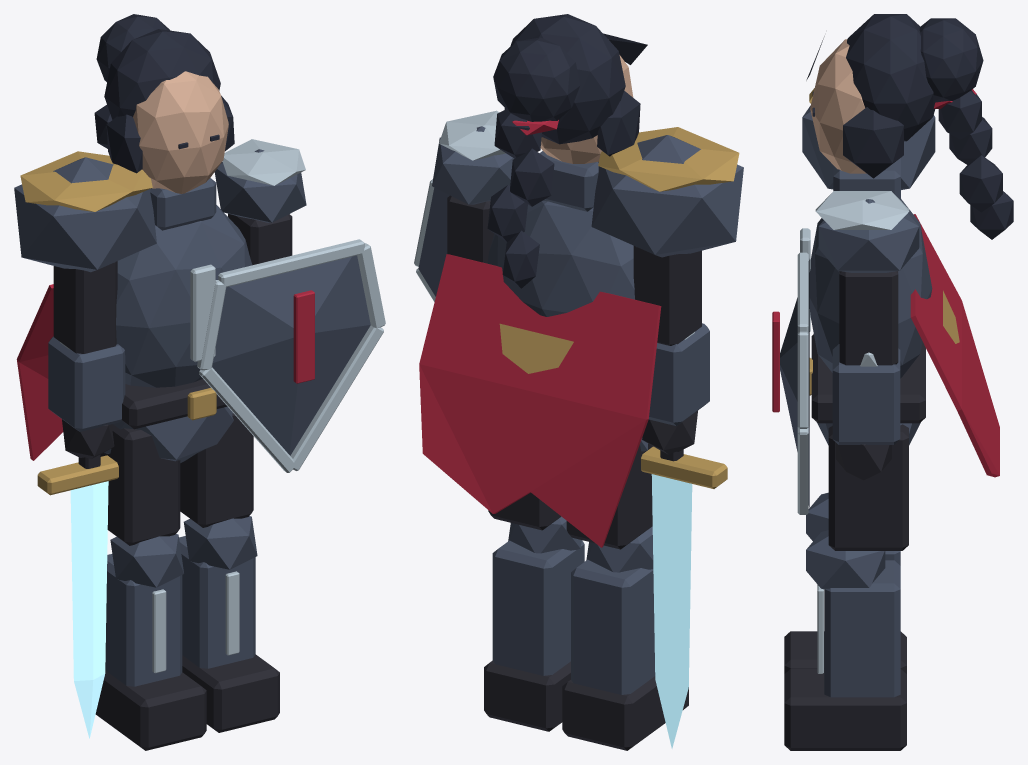
The model's file is hero-brasa.glb.
3 views of the same model, side by side, from view 1: azimuth 30°, elevation 25°; view 2: azimuth 150°, elevation 25°; view 3: azimuth 270°, elevation 25° (orthographic). The views are drawn at different scales.
Visible parts, largest first — view 1: Kite shield, Breastplate, ShoulderBrasa, Face, Blade, Right thigh, Right greave, Left greave, Right boot, Left thigh, Right gauntlet, HairCrown (+26 smaller); view 2: CapePanels, ShoulderBrasa, Right greave, Left greave, Breastplate, Blade, HairCrown, HairBun, Right boot, Right upper arm, ShoulderMoon, Right gauntlet (+20 smaller); view 3: Left greave, CapePanels, Left boot, HairCrown, Left thigh, Breastplate, Left gauntlet, Left upper arm, ShoulderLight, HairBun, Face, HairTemple1 (+19 smaller).
Boxes of the visible parts, box(x1,y1,x2,y2) form: Kite shield: box(212, 255, 370, 455); Breastplate: box(116, 205, 252, 387); ShoulderBrasa: box(14, 157, 156, 272); Face: box(133, 71, 228, 193); Blade: box(70, 481, 108, 738); Right thigh: box(100, 424, 180, 545); Right greave: box(105, 554, 182, 686); Left greave: box(179, 536, 255, 668); Right boot: box(95, 670, 206, 750); Left thigh: box(180, 413, 253, 527); Right gauntlet: box(48, 336, 125, 431); HairCrown: box(104, 29, 220, 119); CapePanels: box(419, 254, 661, 547); ShoulderBrasa: box(591, 135, 743, 257); Right greave: box(571, 559, 655, 694); Left greave: box(492, 540, 584, 675); Breastplate: box(487, 200, 634, 316); Blade: box(651, 474, 692, 748); HairCrown: box(510, 14, 625, 144); HairBun: box(493, 37, 580, 121); Right boot: box(562, 676, 688, 750); Right upper arm: box(633, 246, 701, 345); ShoulderMoon: box(598, 127, 739, 191); Right gauntlet: box(649, 323, 709, 425); Left greave: box(824, 560, 900, 697); CapePanels: box(910, 214, 999, 477); Left boot: box(784, 668, 906, 750); HairCrown: box(846, 14, 935, 141); Left thigh: box(828, 424, 908, 550); Breastplate: box(809, 199, 932, 378); Left gauntlet: box(832, 344, 900, 444); Left upper arm: box(839, 271, 898, 365); ShoulderLight: box(818, 199, 919, 272); HairBun: box(919, 18, 983, 102); Face: box(810, 39, 866, 173); HairTemple1: box(843, 107, 903, 178).
Size of the model in its own units: 0.9491 by 1.85 by 0.57.
